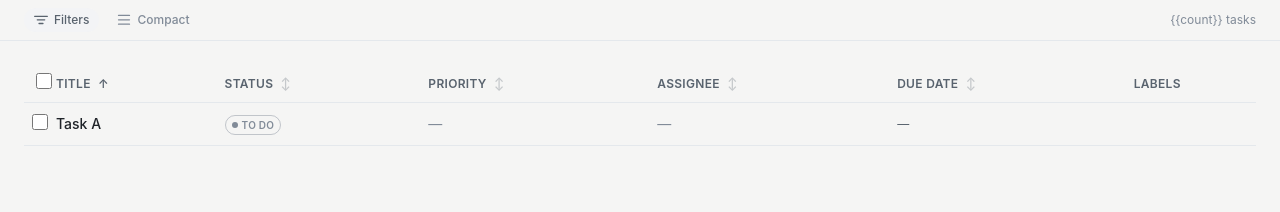
Test: ListView › selection toolbar appears when checkbox toggled
Step 1. Click the checkbox next to "Task A" → (40, 122), box x1=32 y1=114 x2=48 y2=130
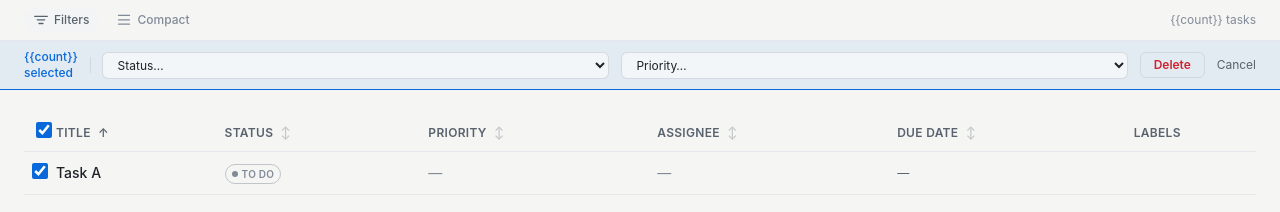
Expected: the text "{{count}} selected" is shown, x1=24 y1=49 x2=78 y2=81
